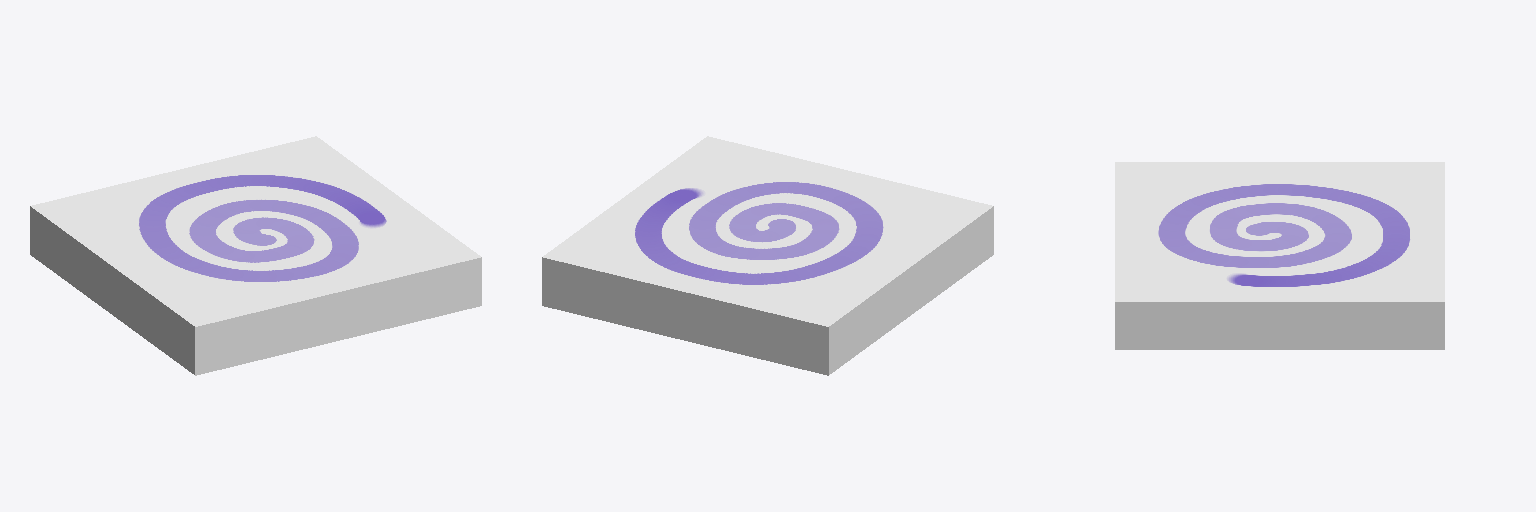
3 views of the same model, side by side, from view 1: azimuth 30°, elevation 25°; view 2: azimuth 150°, elevation 25°; view 3: azimuth 270°, elevation 25° (orthographic).
Visible parts, largest first — view 1: Cube; view 2: Cube; view 3: Cube.
Part boxes in pixels (x1,y1,x2,y2): Cube: (30, 136, 481, 375); Cube: (542, 136, 993, 375); Cube: (1115, 162, 1444, 349).
Bounding box in the file's own units: 2 × 0.3247 × 2.
1 materials, 1 textured.